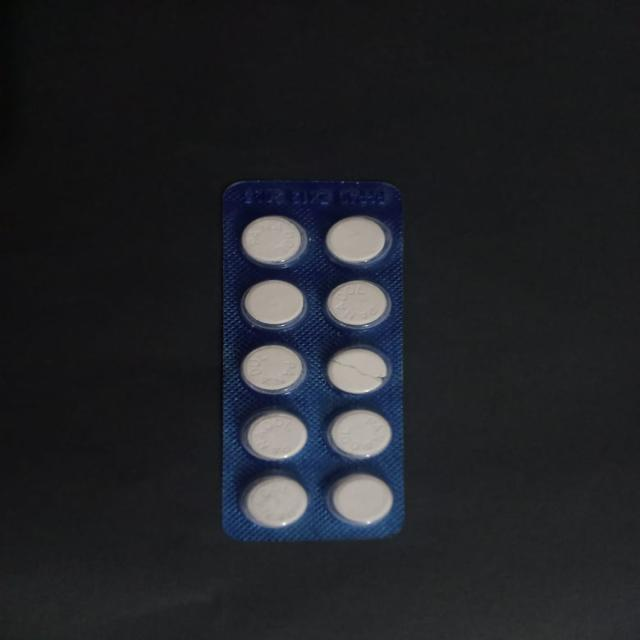defect: (324, 342, 395, 397)
